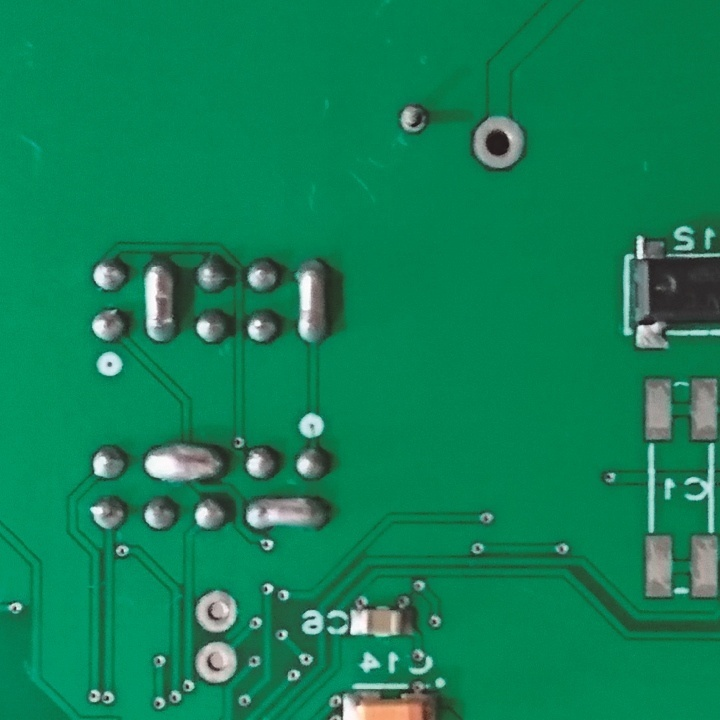F: (467, 112, 530, 178), (193, 639, 239, 692), (193, 588, 240, 635), (397, 101, 429, 138)
P: (143, 439, 227, 483), (141, 255, 179, 349), (241, 494, 330, 533), (291, 258, 326, 350)
